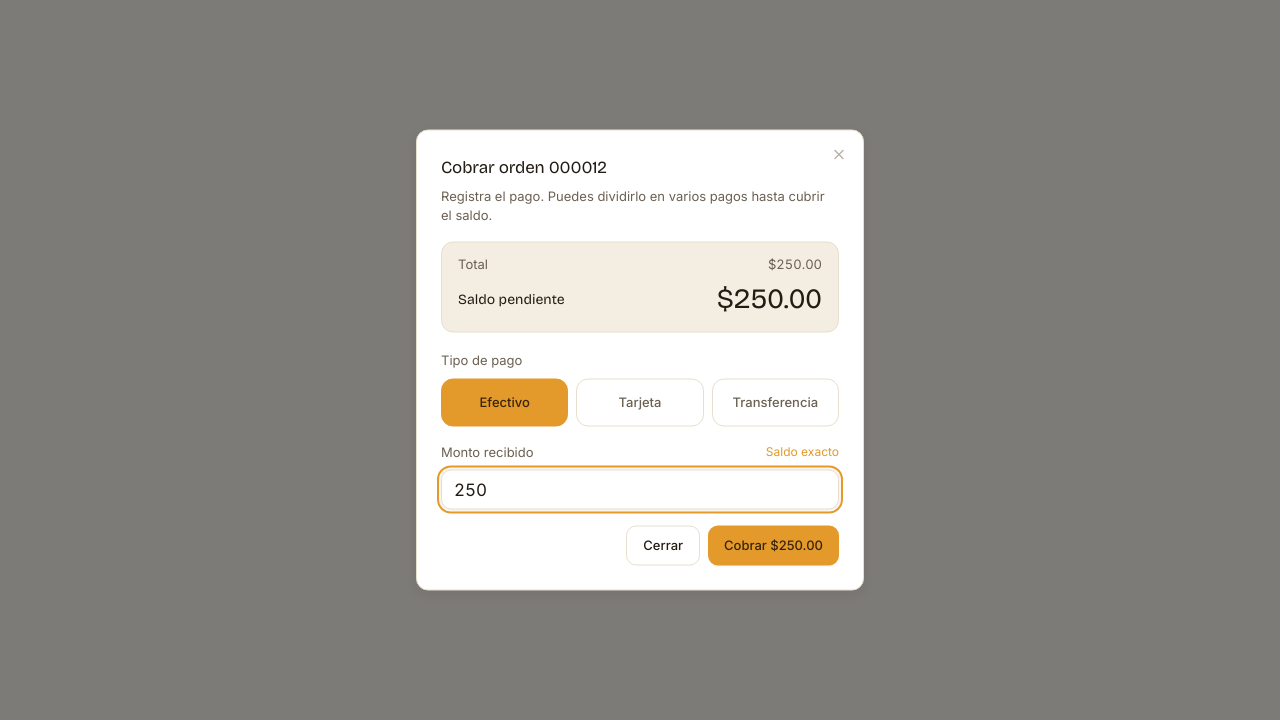
CobrarDialog › pago dividido › lista los pagos ya asentados con el importe que confirmó el backend
This screenshot has width=1280, height=720.
Replace the text in the field with placeholder "0.00" with "100" at (640, 490), box left=441, top=470, right=839, bottom=510
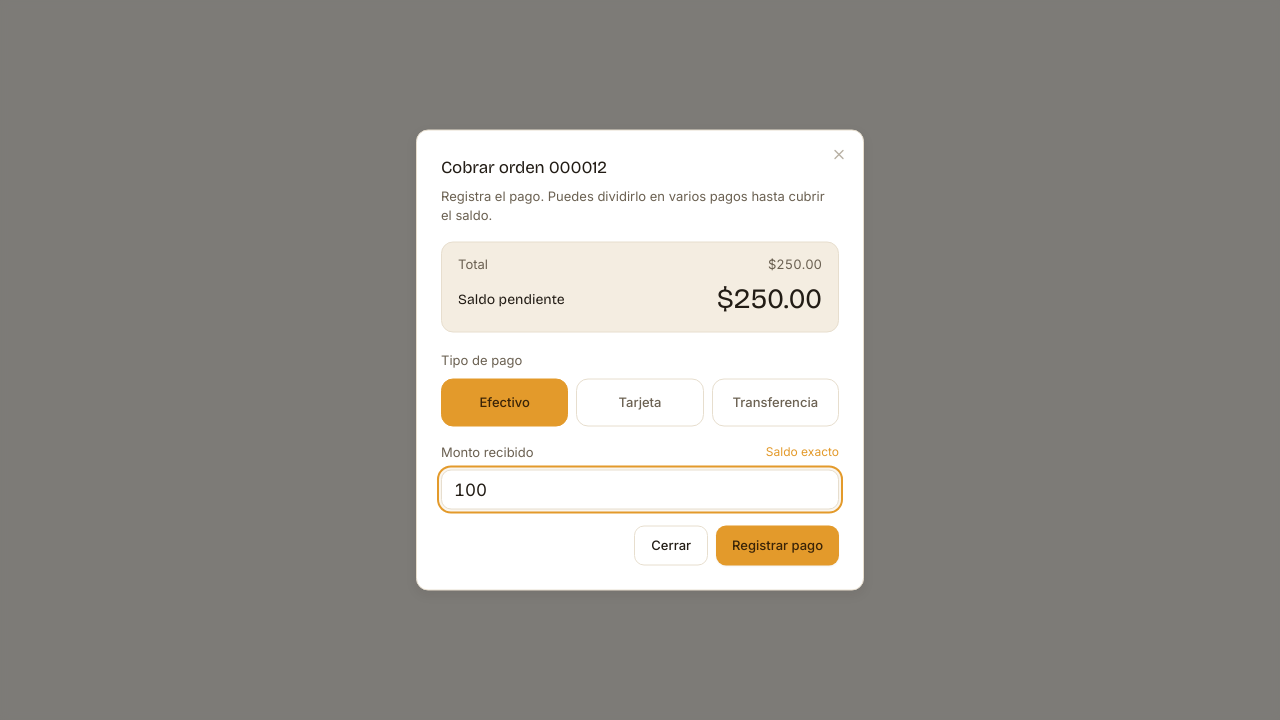
Click the button "Registrar pago" at (778, 546), box left=716, top=526, right=839, bottom=566
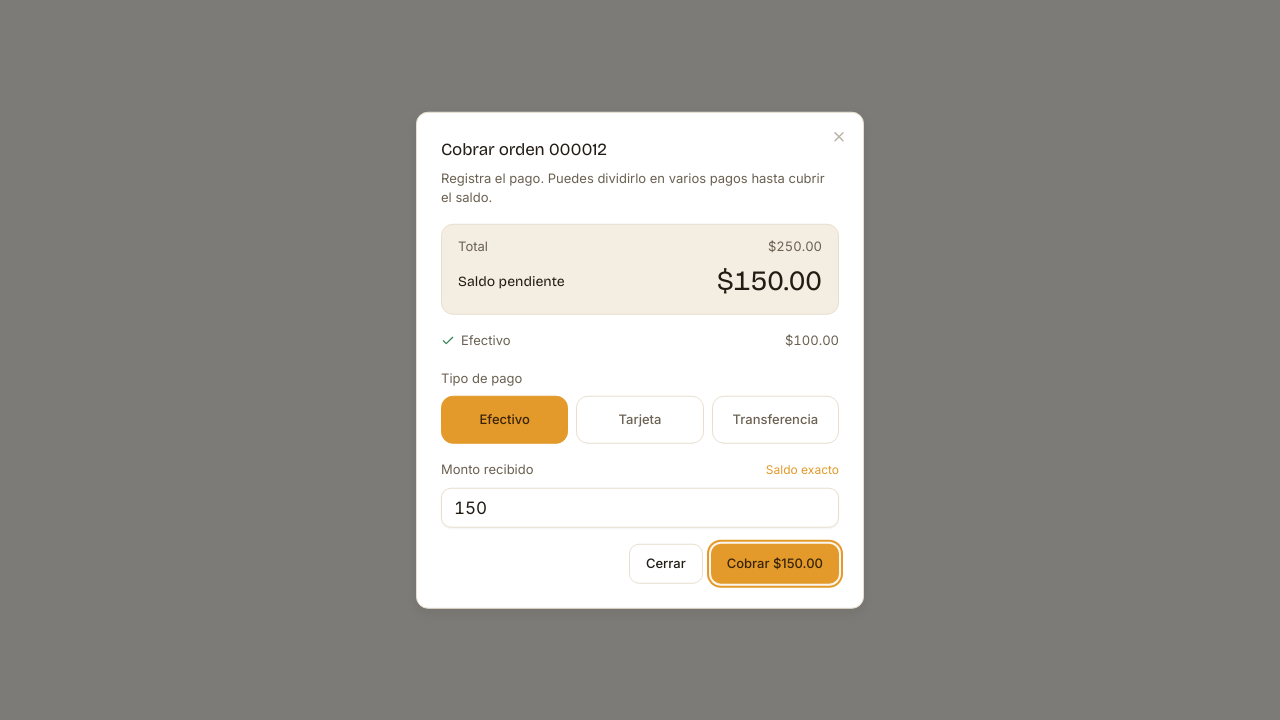
Expected: the text "efectivo" is shown, left=441, top=331, right=510, bottom=350
Expected: the text "$100.00" is shown, left=785, top=331, right=839, bottom=350
